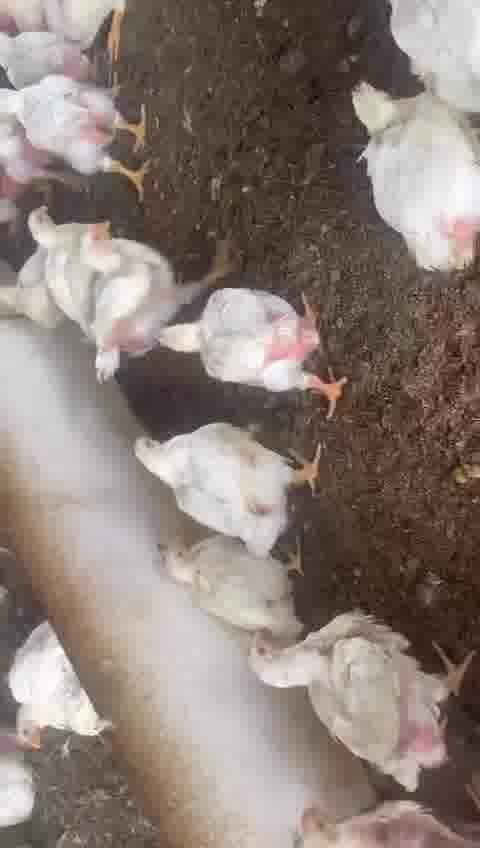AbNormal: (143, 519, 315, 645), (261, 780, 480, 848)
Normal: (246, 627, 461, 782), (347, 74, 480, 272), (125, 422, 321, 539), (159, 294, 350, 410), (0, 78, 179, 194), (80, 210, 180, 366), (17, 195, 104, 323), (2, 30, 129, 84)
